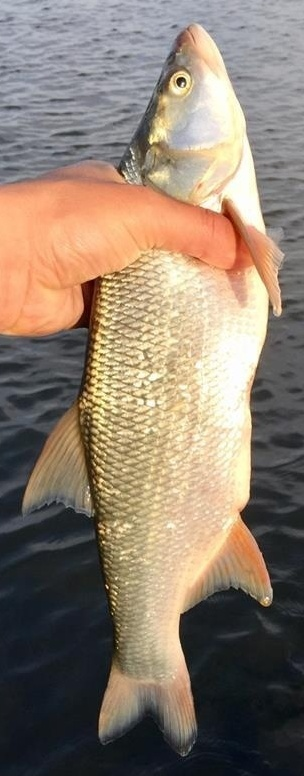Aspius aspius: (20, 20, 284, 756)
